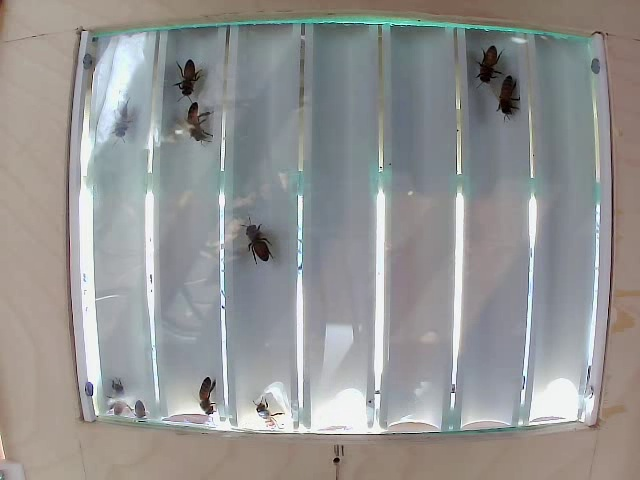bee: (187, 106, 227, 149), (246, 217, 282, 256), (179, 61, 214, 96), (469, 45, 496, 84), (493, 83, 518, 125), (194, 379, 219, 402)
